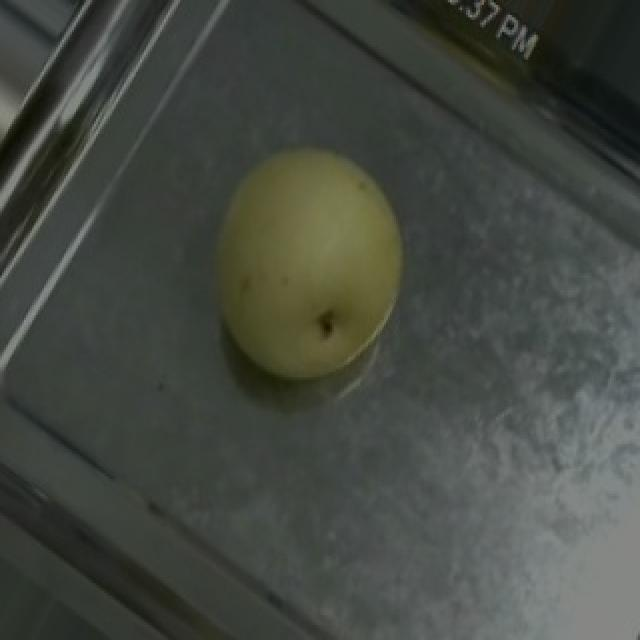Fruit: (162, 104, 456, 417)
